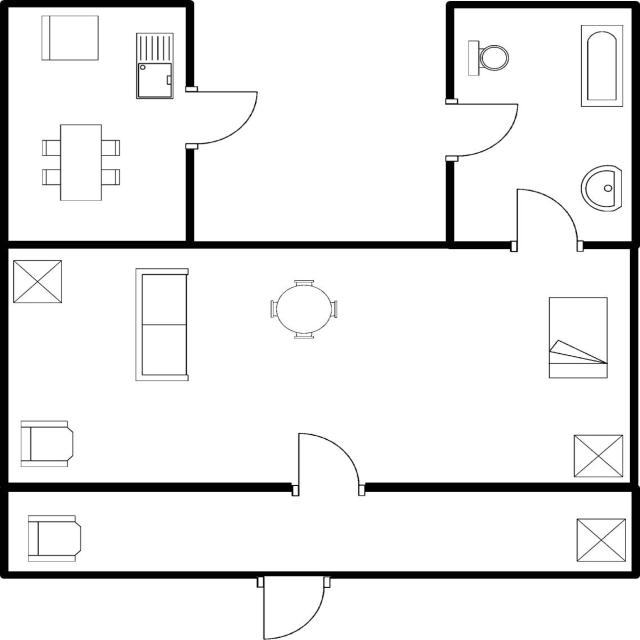armchair: (23, 511, 86, 564), (18, 416, 76, 471)
bed: (542, 292, 612, 382)
coffee_table: (569, 430, 628, 480), (572, 514, 628, 566), (10, 256, 64, 308)
dining_table: (36, 120, 120, 206)
large_sink: (461, 36, 512, 79)
large_sofa: (129, 264, 194, 384)
round_table: (265, 275, 342, 343)
sink: (129, 29, 178, 104)
small_sink: (576, 159, 627, 214)
small_sofa: (37, 10, 105, 65)
tub: (577, 20, 626, 111)
